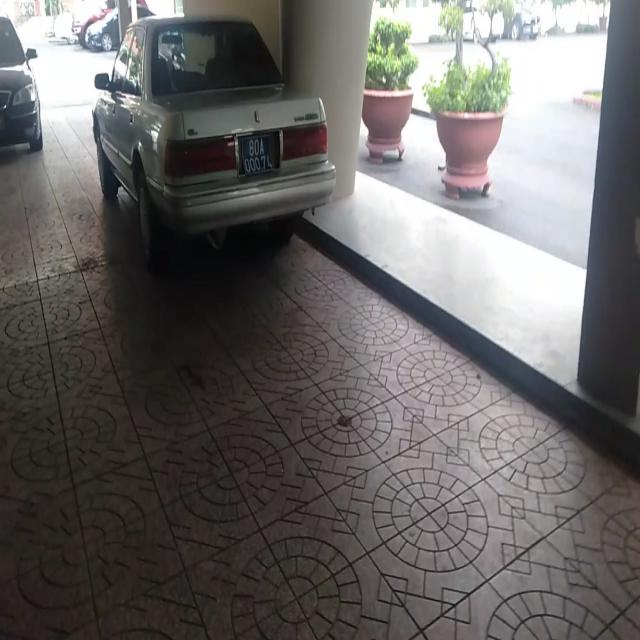bien_xanh: (238, 132, 282, 180)
